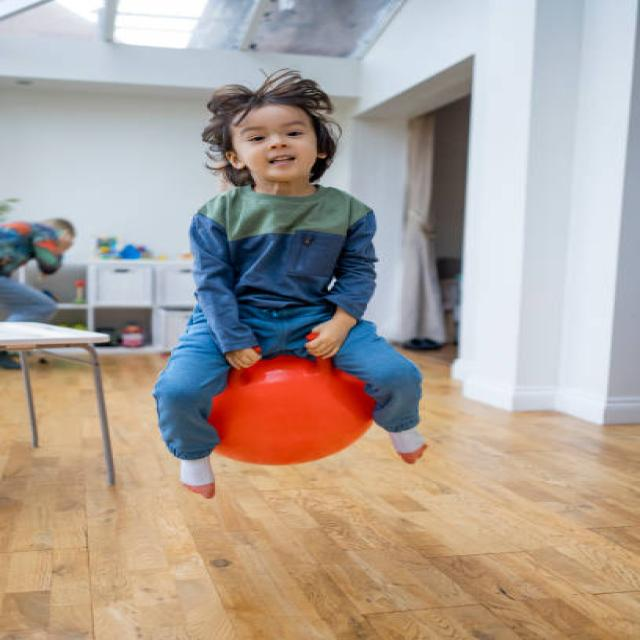Real human 2: (128, 63, 490, 518)
